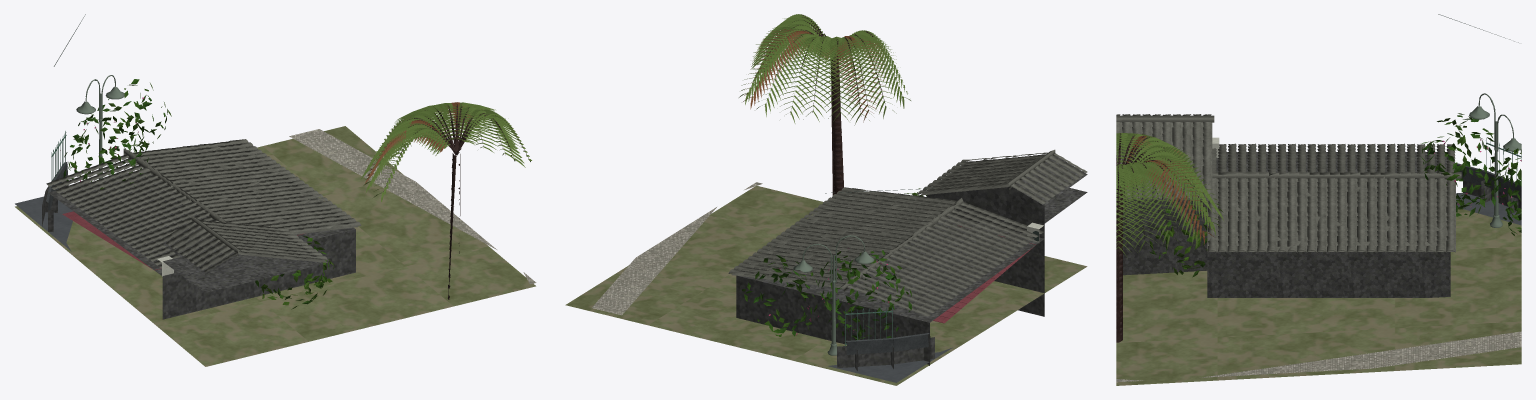
3 renders of one model, left to right at view 1: azimuth 30°, elevation 25°; view 2: azimuth 150°, elevation 25°; view 3: azimuth 270°, elevation 25°, orthographic. The views are drawn at different scales.
Size of the model in its own units: 16 by 9.91 by 16.
18 materials, 14 textured.
